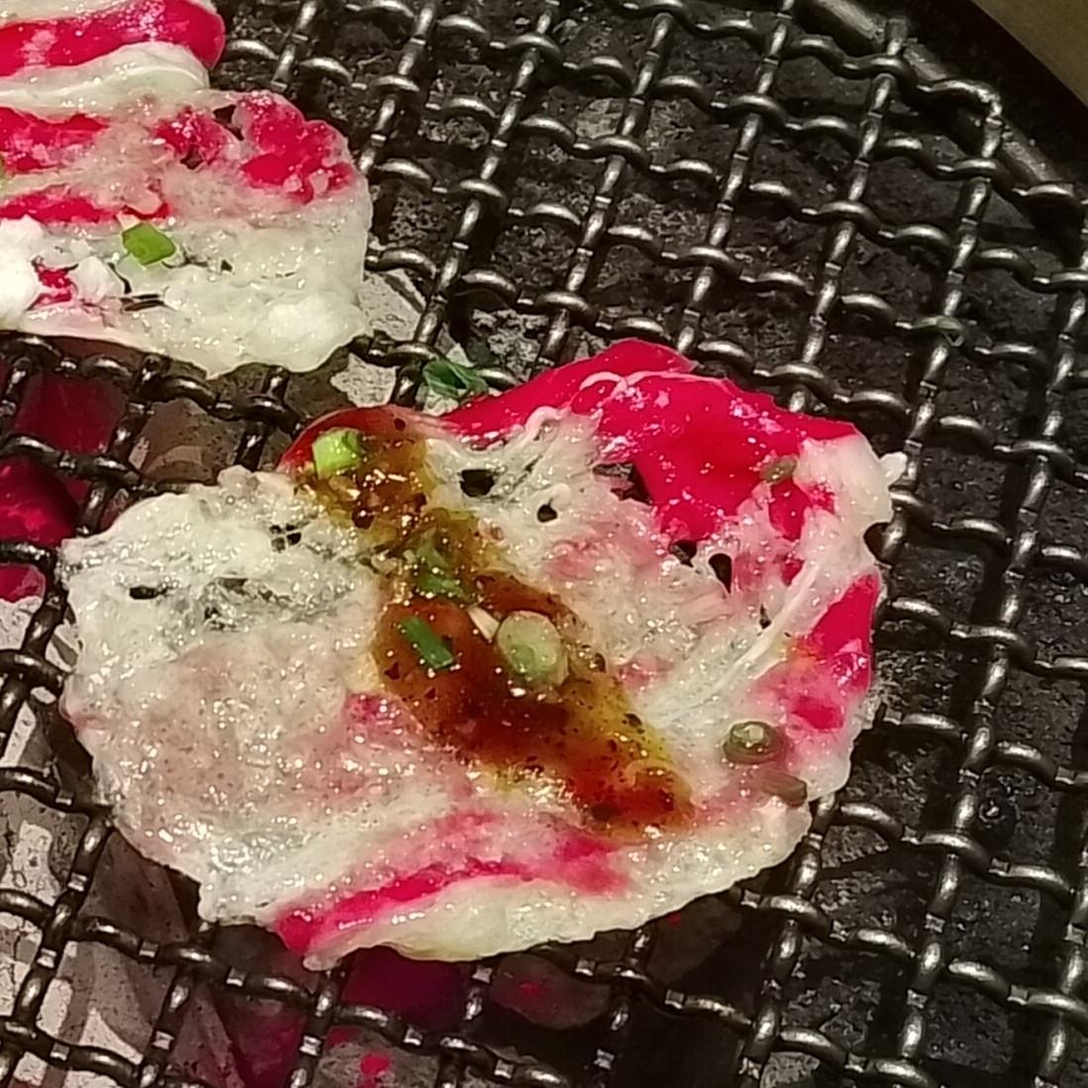Undercooked: (56, 341, 903, 967), (0, 0, 372, 378)
